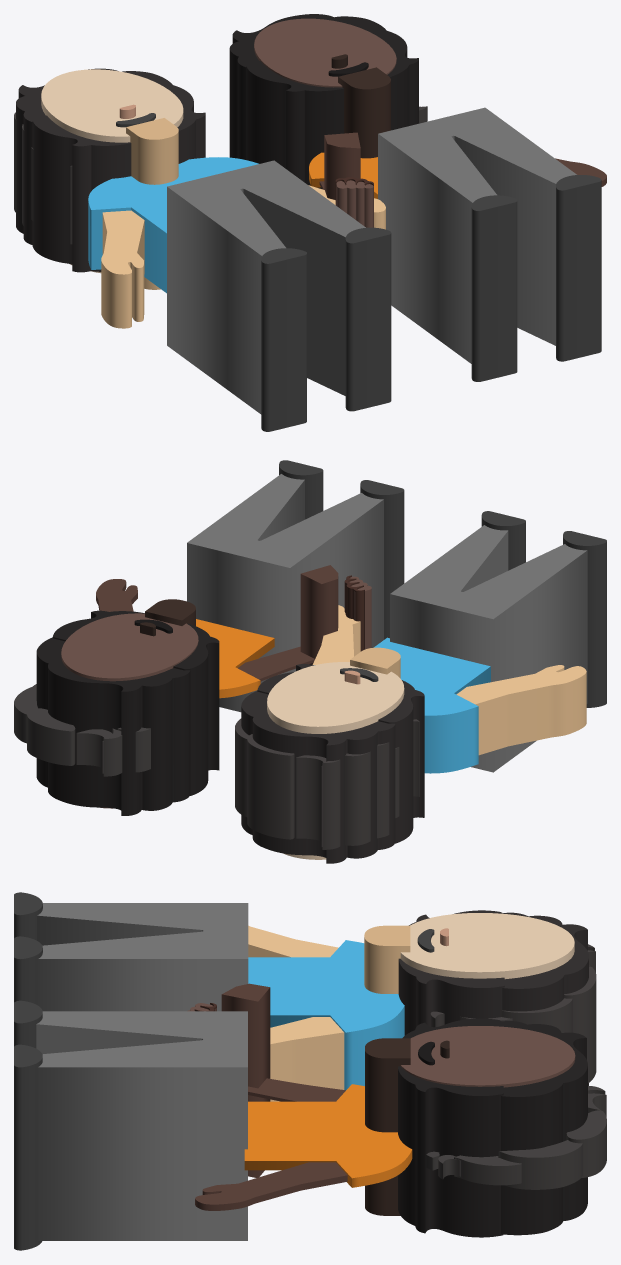
The model's file is emoji_u1f9d1_1f3fb_200d_1f91d_200d_1f9d1_1f3ff.glb.
The picture shows the model from 3 angles, top to bottom: view 1: azimuth 30°, elevation 25°; view 2: azimuth 150°, elevation 25°; view 3: azimuth 270°, elevation 25°; orthographic projection. The views are drawn at different scales.
Parts seen in each view (by area): view 1: emoji_u1f9d1_1f3fb_200d_1f91d_200d_1f9d1_1f3ff; view 2: emoji_u1f9d1_1f3fb_200d_1f91d_200d_1f9d1_1f3ff; view 3: emoji_u1f9d1_1f3fb_200d_1f91d_200d_1f9d1_1f3ff.
Boxes of the visible parts, x1,y1,x2,y2 form: emoji_u1f9d1_1f3fb_200d_1f91d_200d_1f9d1_1f3ff: [14, 14, 606, 431]; emoji_u1f9d1_1f3fb_200d_1f91d_200d_1f9d1_1f3ff: [14, 460, 606, 863]; emoji_u1f9d1_1f3fb_200d_1f91d_200d_1f9d1_1f3ff: [14, 892, 606, 1250].
Bounding box in the file's own units: 0.0346 × 0.0114 × 0.0335.
